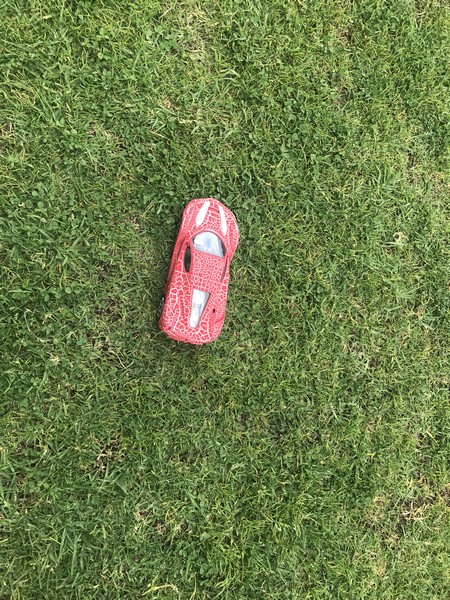RC: (155, 197, 240, 347)
